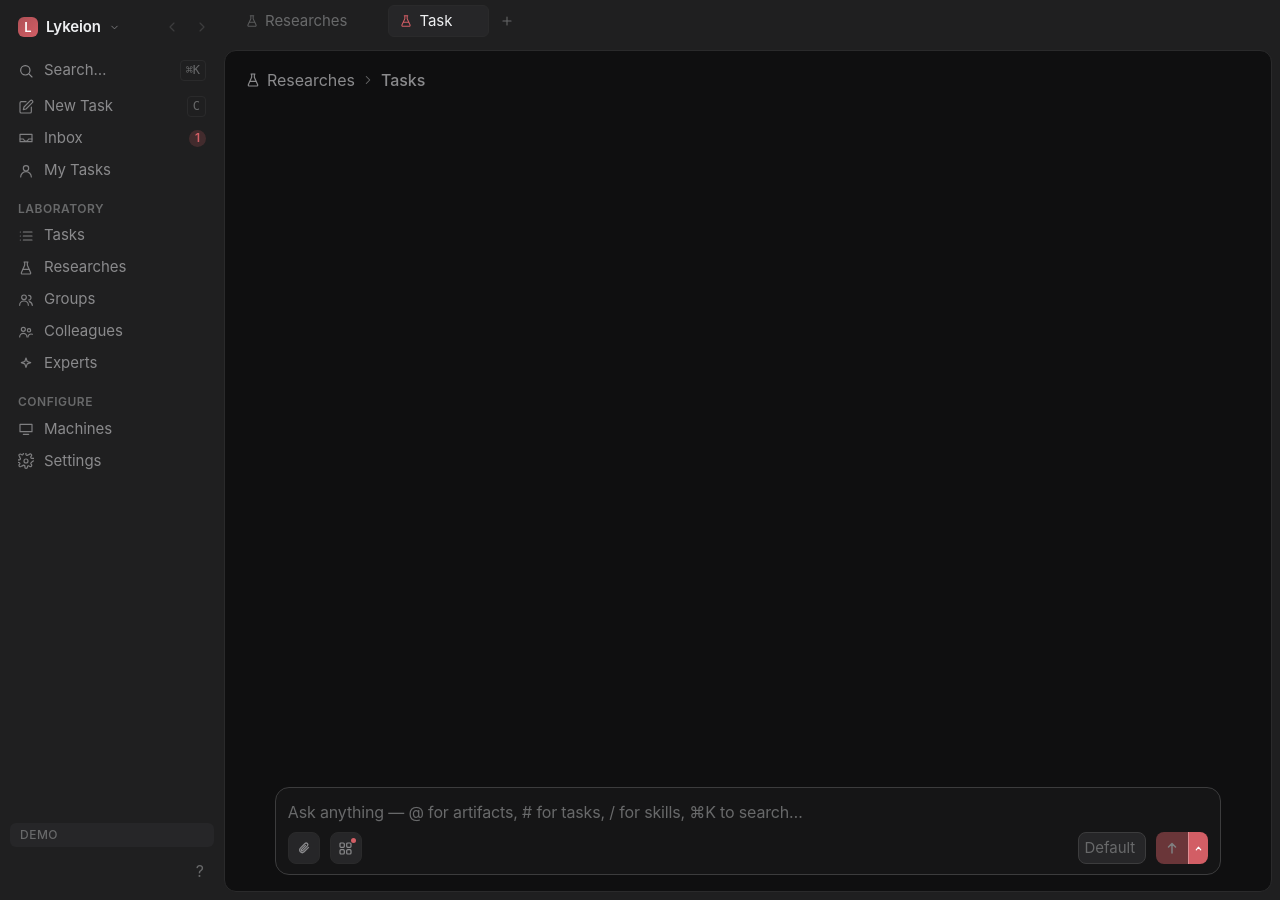
Test: the first send on an unfiled Task › opens the conversation at the unfiled address, and files it from there
The image size is (1280, 900).
Type "chase the drift" into the text box named "Message the agent" at [748, 812], box [288,800,1208,824]
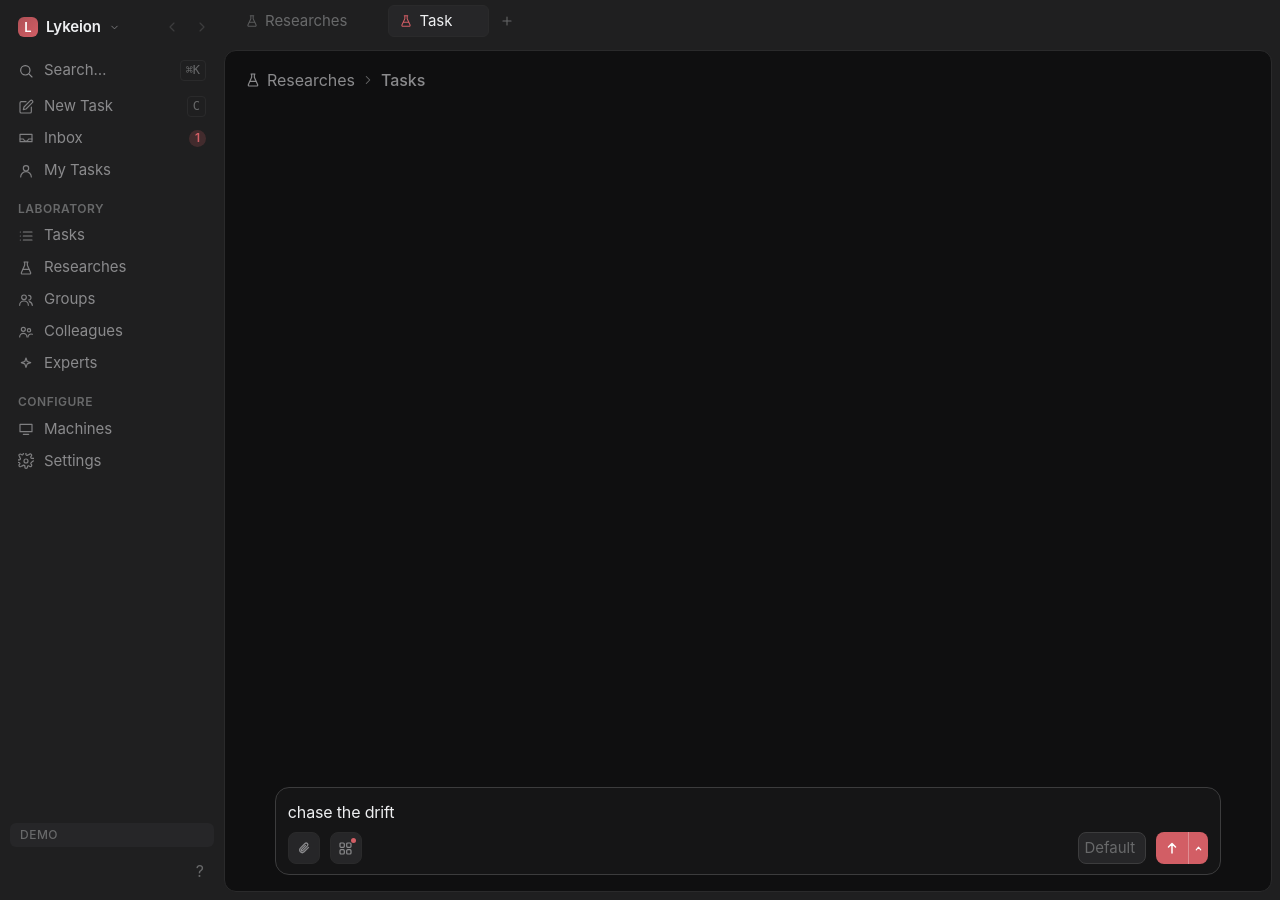
Click the button named "Send" at [1172, 848], box [1156,832,1188,864]
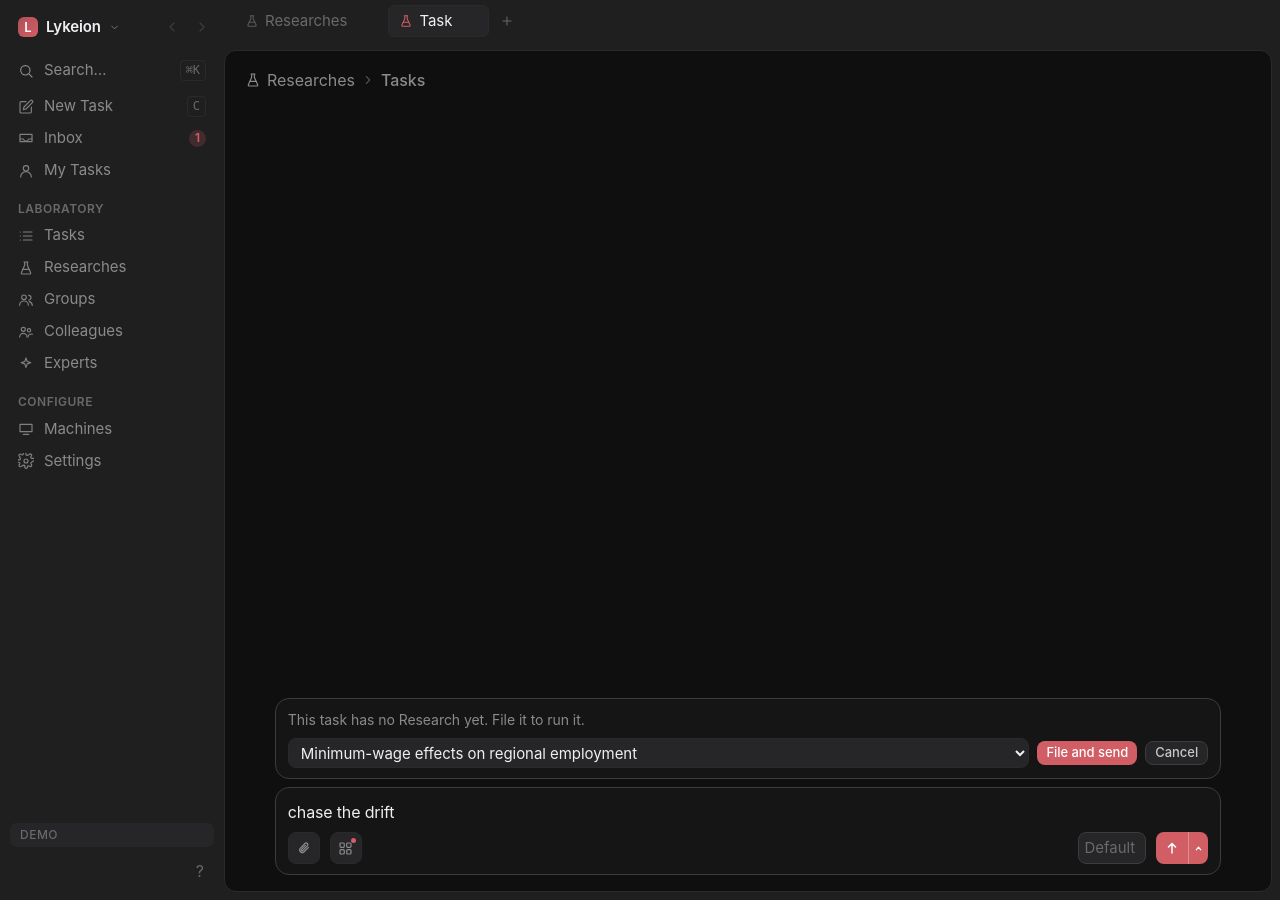
Select "Cross-modal plasticity in the brain" in the dropdown labelled "This task has no Research yet. File it to run it." at [659, 753], box [288,738,1029,768]
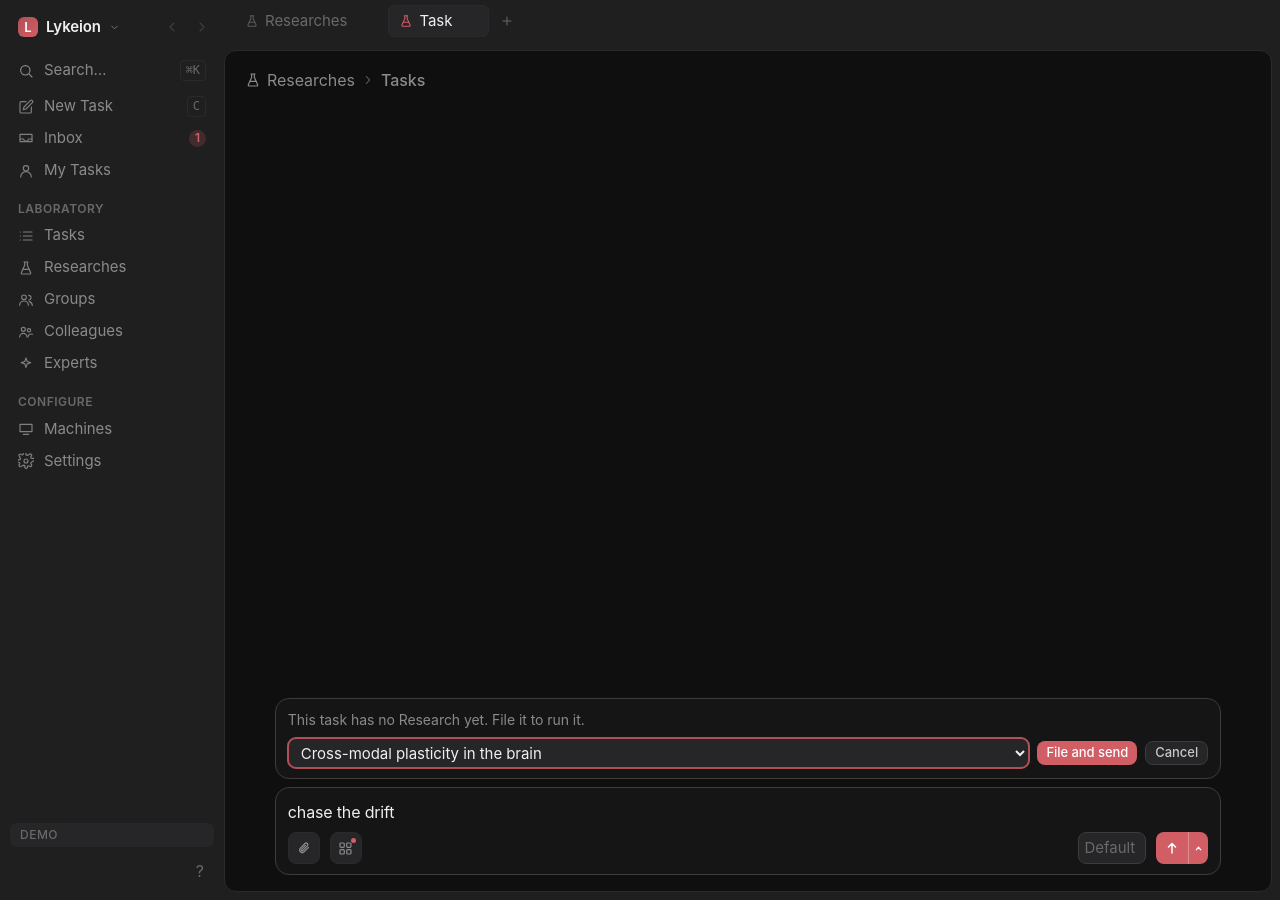
Click the button "File and send" at [1087, 753], box [1037,741,1137,765]
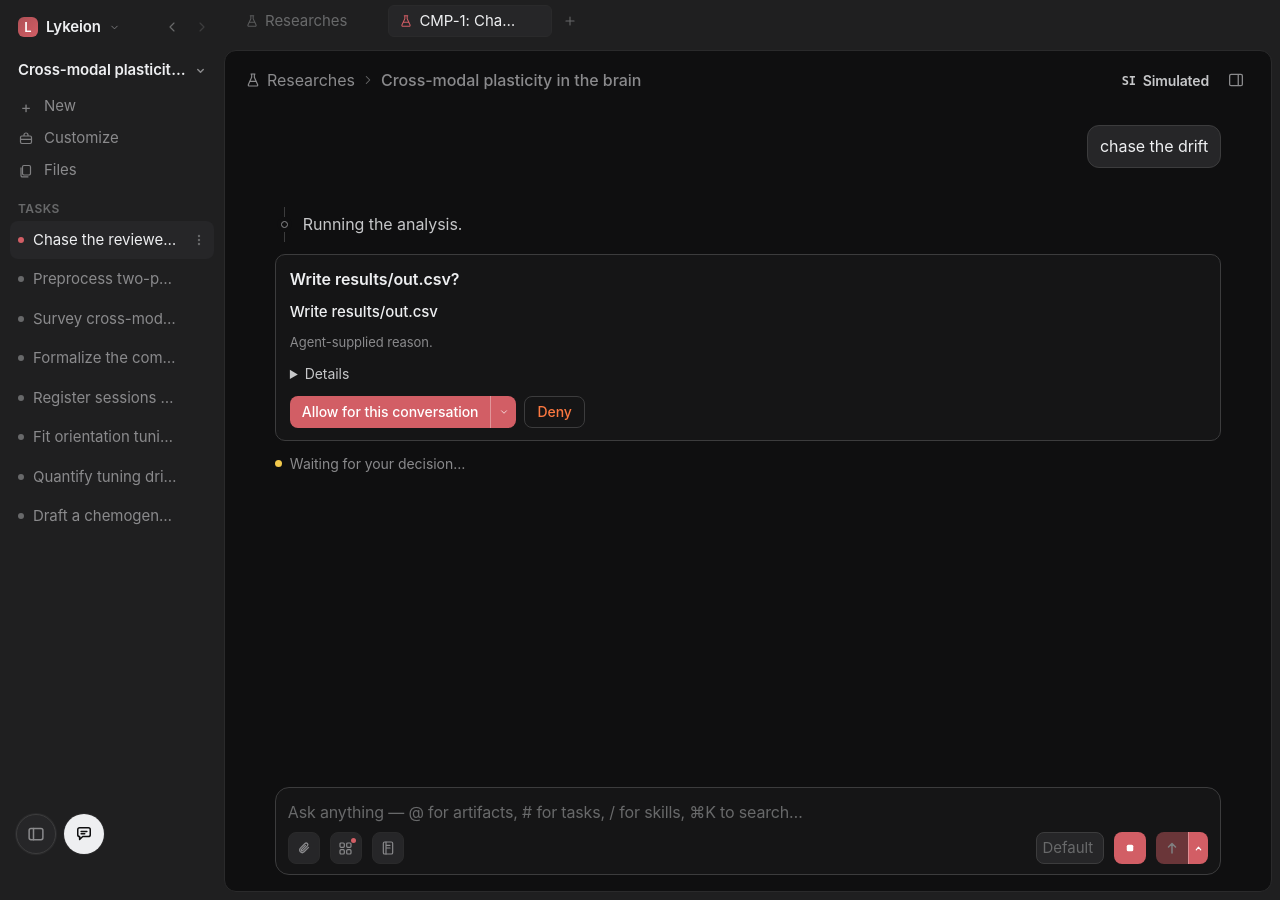
Now the button "Chase the reviewer's point about spike sorting drift" is shown, box [10,221,188,259]
